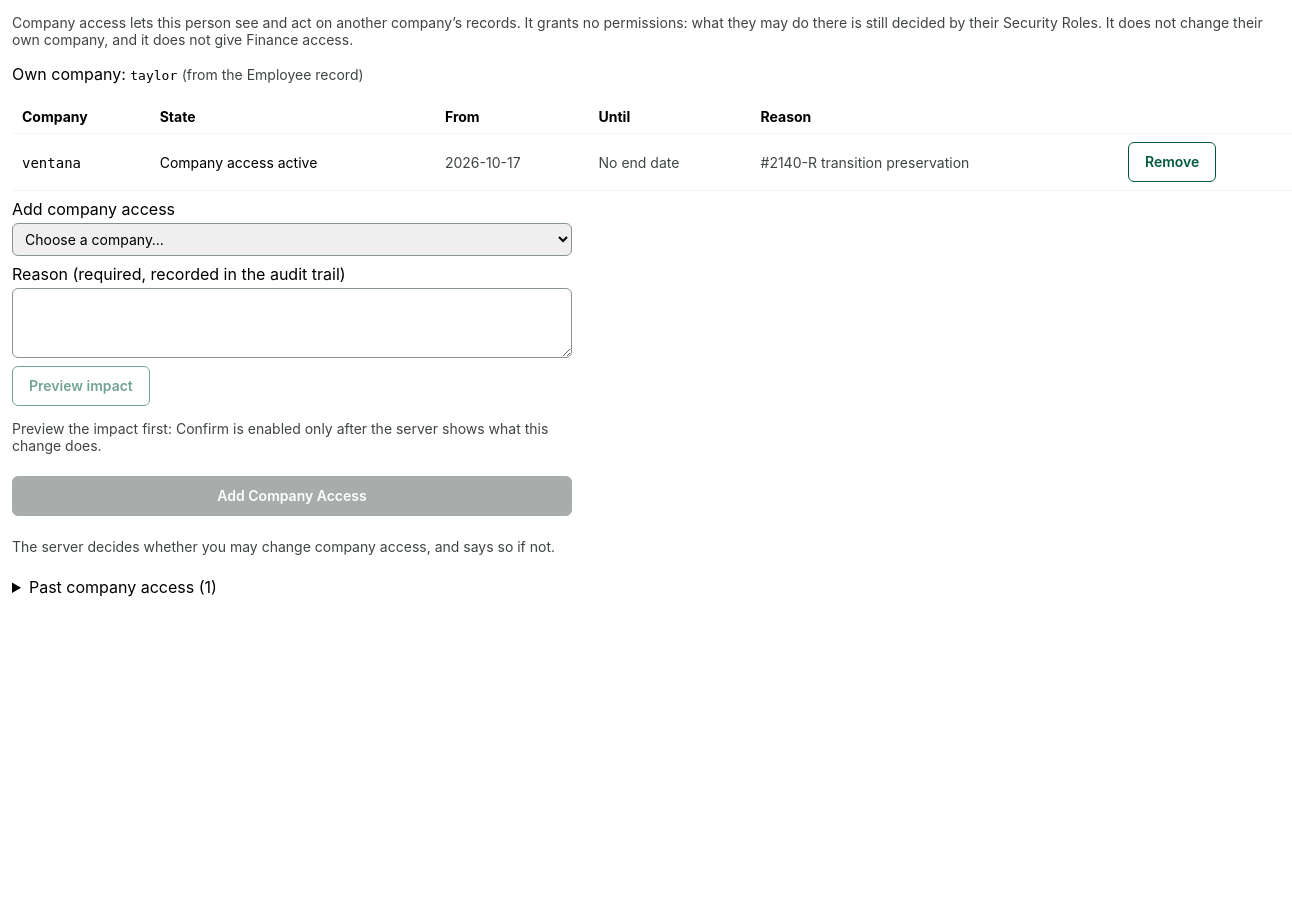
Test: Employee > Company access › shows the server's refusal verbatim
The image size is (1292, 900).
Select "delta" in the dropdown named "Company to add": {"x": 292, "y": 240} [12,223,572,256]
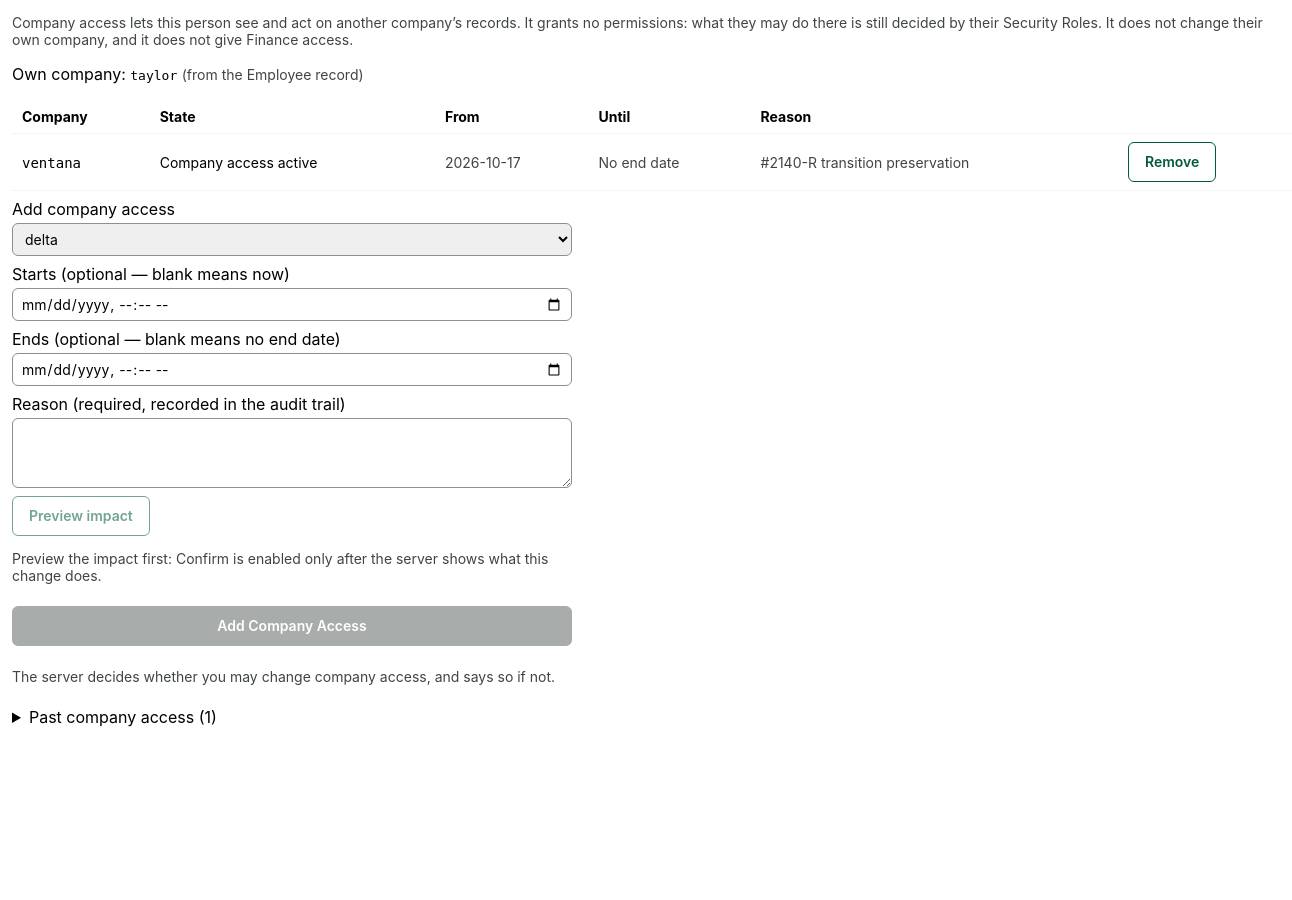
In the text box labelled "Reason": {"x": 292, "y": 453} [12,418,572,488], type "x"
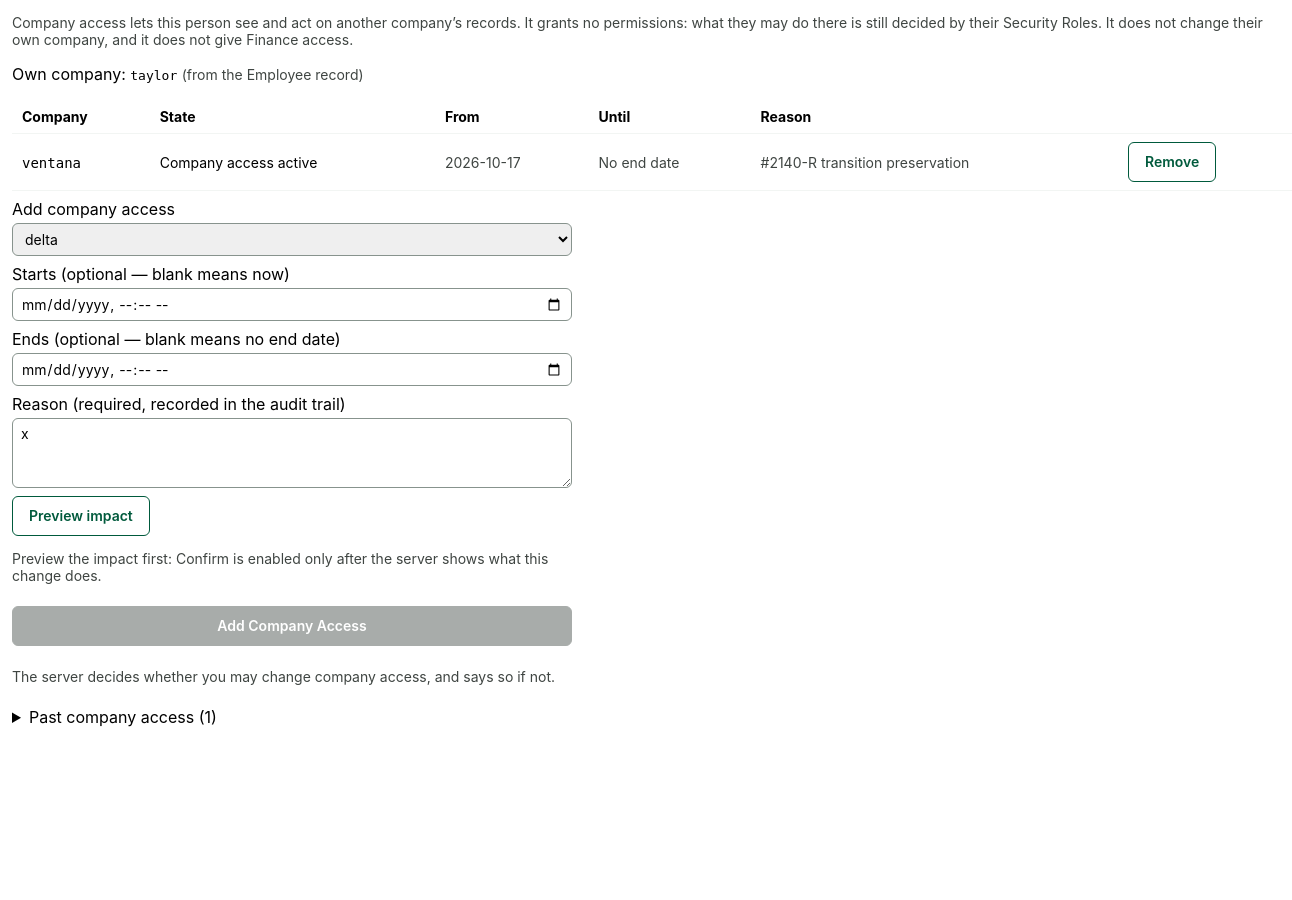
Click the button "Preview impact": {"x": 81, "y": 516} [12,496,150,536]
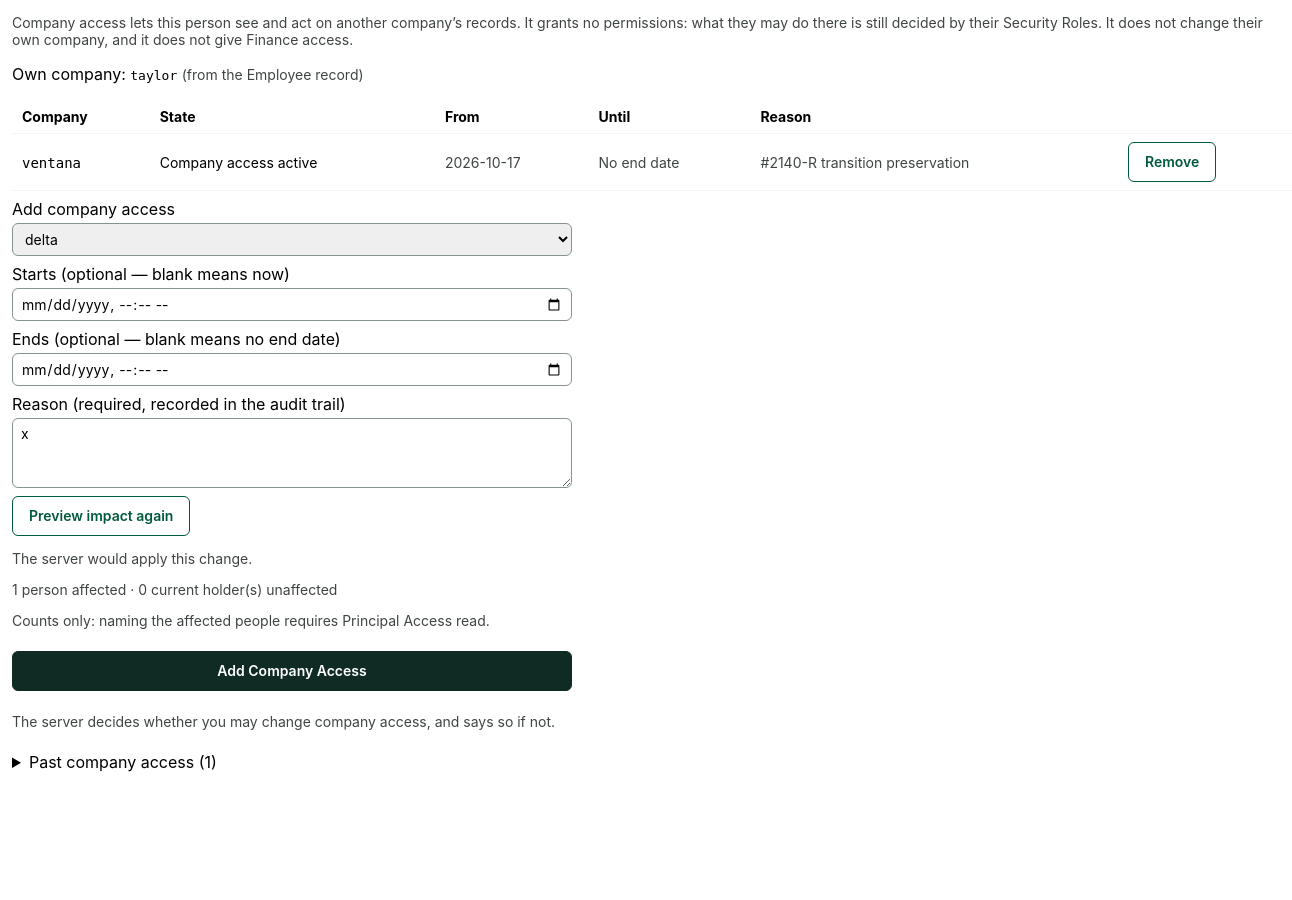
Click the button "Add Company Access": {"x": 292, "y": 671} [12,651,572,691]
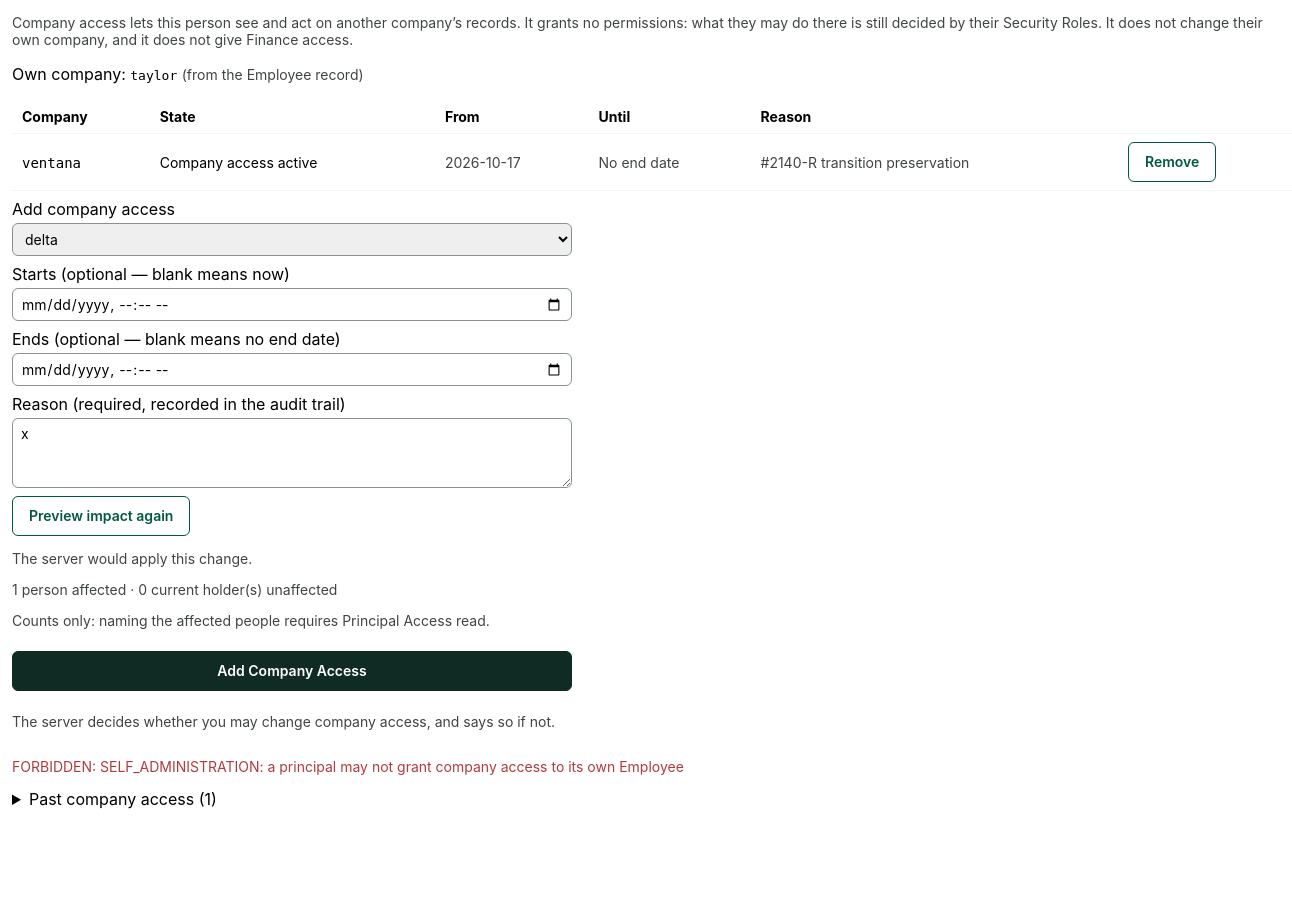
Expected: the 2nd message shows "FORBIDDEN: SELF_ADMINISTRATION: a principal may not grant company access to its own Employee", [12,758,684,775]
